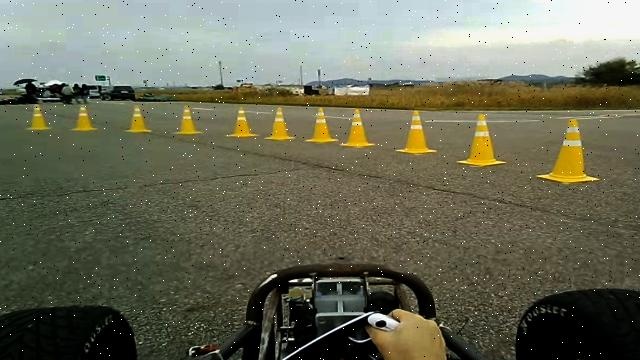yellow cone: (536, 118, 600, 184), (456, 113, 506, 167), (395, 109, 437, 154), (339, 108, 375, 148), (304, 107, 338, 143), (264, 106, 295, 140), (226, 106, 258, 137), (172, 105, 203, 135), (125, 104, 152, 133), (70, 105, 98, 131), (25, 104, 51, 130)
